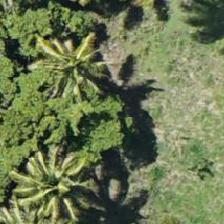coconut_tree: (25, 14, 115, 104), (0, 142, 86, 223)
